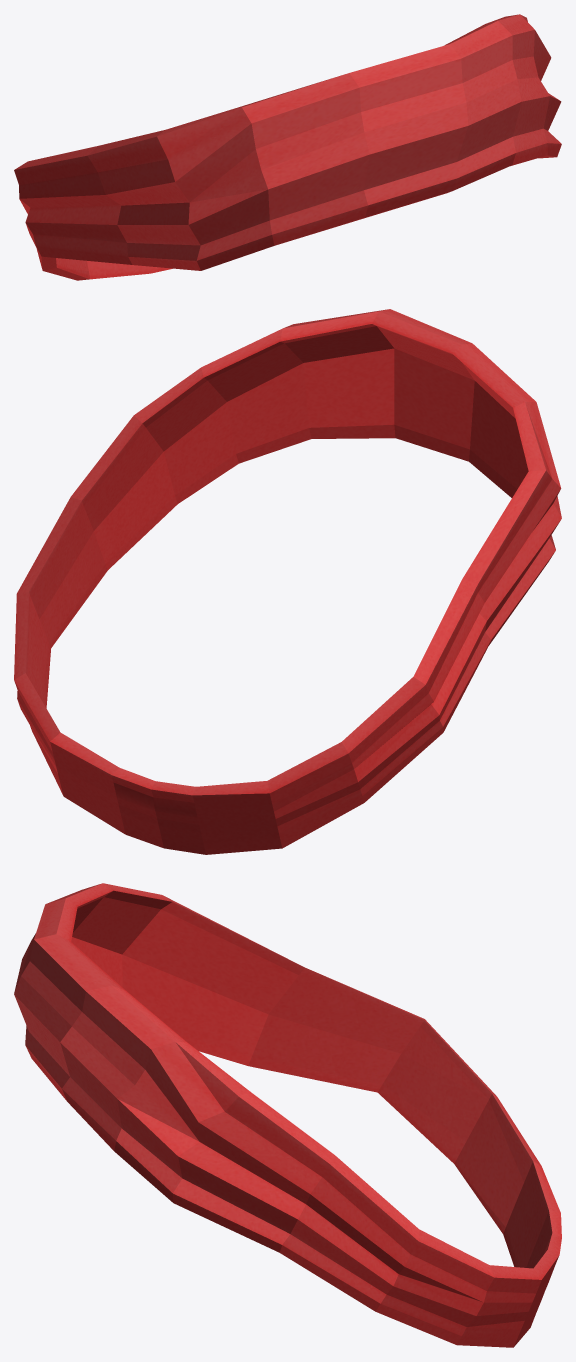
Rendered from Sports_headband_Boy.fbx.
The picture shows the model from 3 angles, top to bottom: view 1: azimuth 30°, elevation 25°; view 2: azimuth 150°, elevation 25°; view 3: azimuth 270°, elevation 25°; orthographic projection. The views are drawn at different scales.
Parts seen in each view (by area): view 1: Sports_headband; view 2: Sports_headband; view 3: Sports_headband.
Boxes of the visible parts, box(x1,y1,x2,y2) form: Sports_headband: box(14, 14, 561, 280); Sports_headband: box(14, 309, 561, 854); Sports_headband: box(14, 883, 561, 1347).
Bounding box in the file's own units: 44.53 × 37.48 × 48.67.
